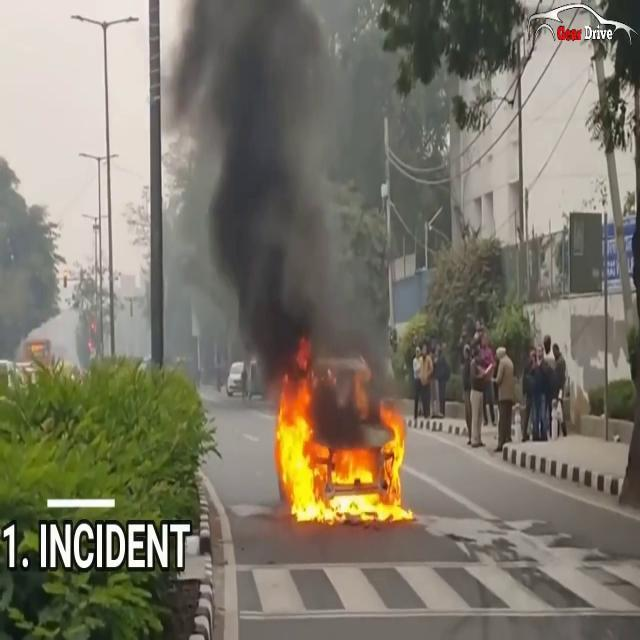Fire: (271, 372, 415, 530)
Smoke: (159, 0, 407, 381)
